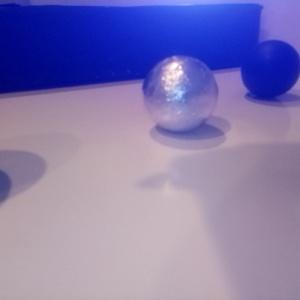alive_ball: (141, 54, 219, 134)
dead_ball: (240, 38, 300, 98)
